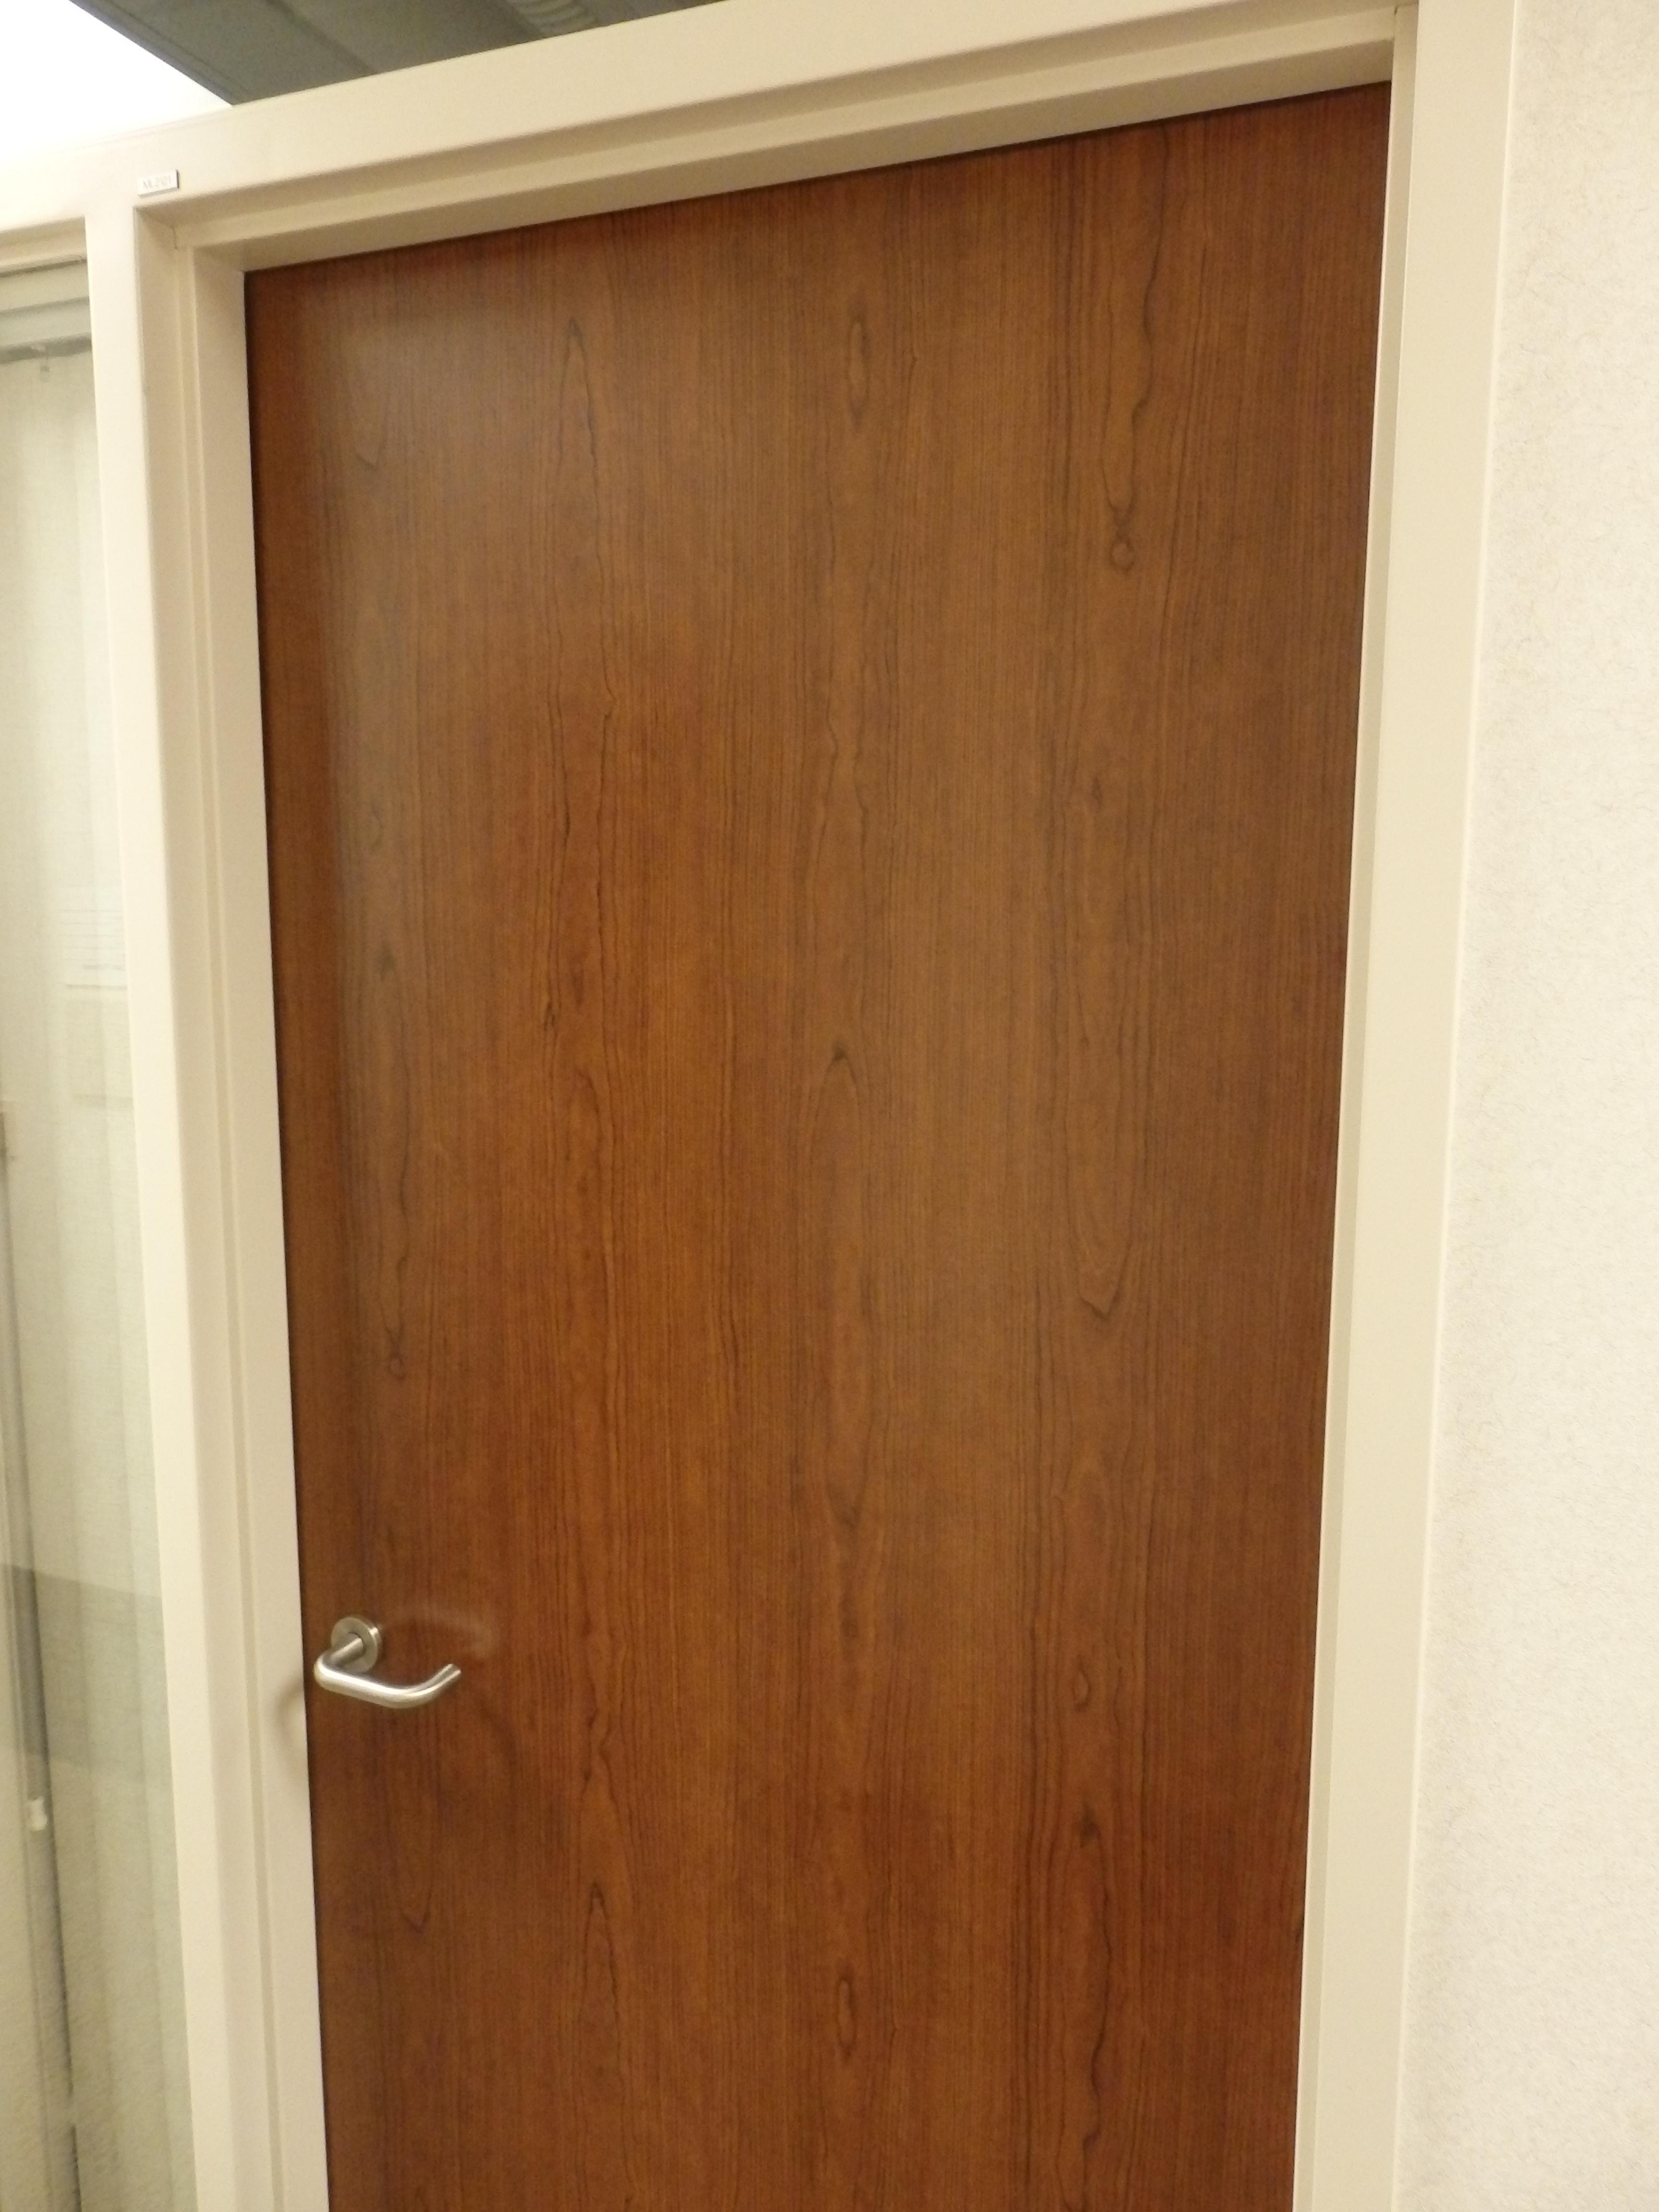door: (277, 310, 1272, 2212)
handle: (310, 1601, 465, 1733)
